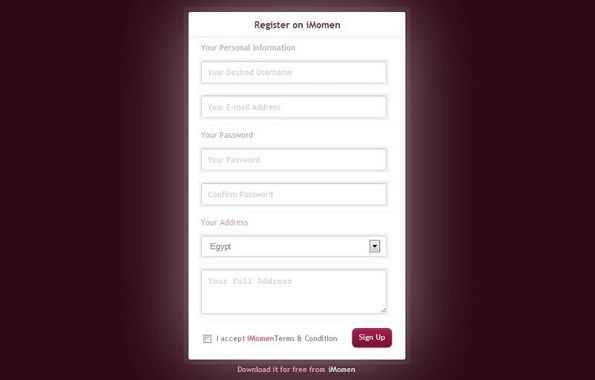_form_: (171, 3, 416, 380)
button: (350, 327, 394, 349)
checkbox: (201, 332, 215, 344)
field: (199, 267, 388, 315), (199, 59, 390, 86), (199, 181, 389, 208), (199, 147, 389, 173), (200, 234, 389, 260), (200, 95, 387, 119)
field_with_label: (196, 42, 393, 88), (197, 130, 393, 174), (198, 219, 392, 262)
